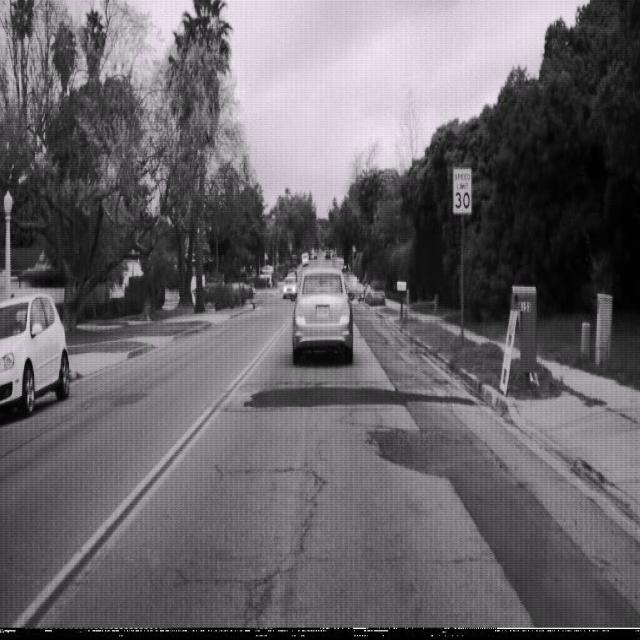speedLimit30: (452, 166, 472, 214)
